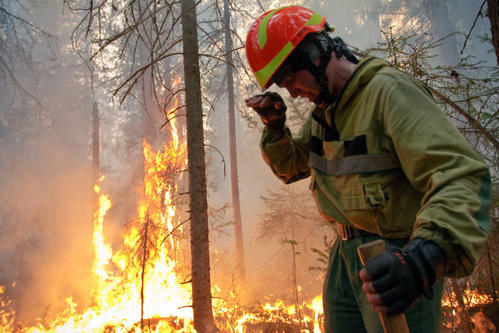fire: (27, 142, 193, 333), (214, 294, 323, 333), (382, 14, 417, 31), (464, 287, 489, 304)
